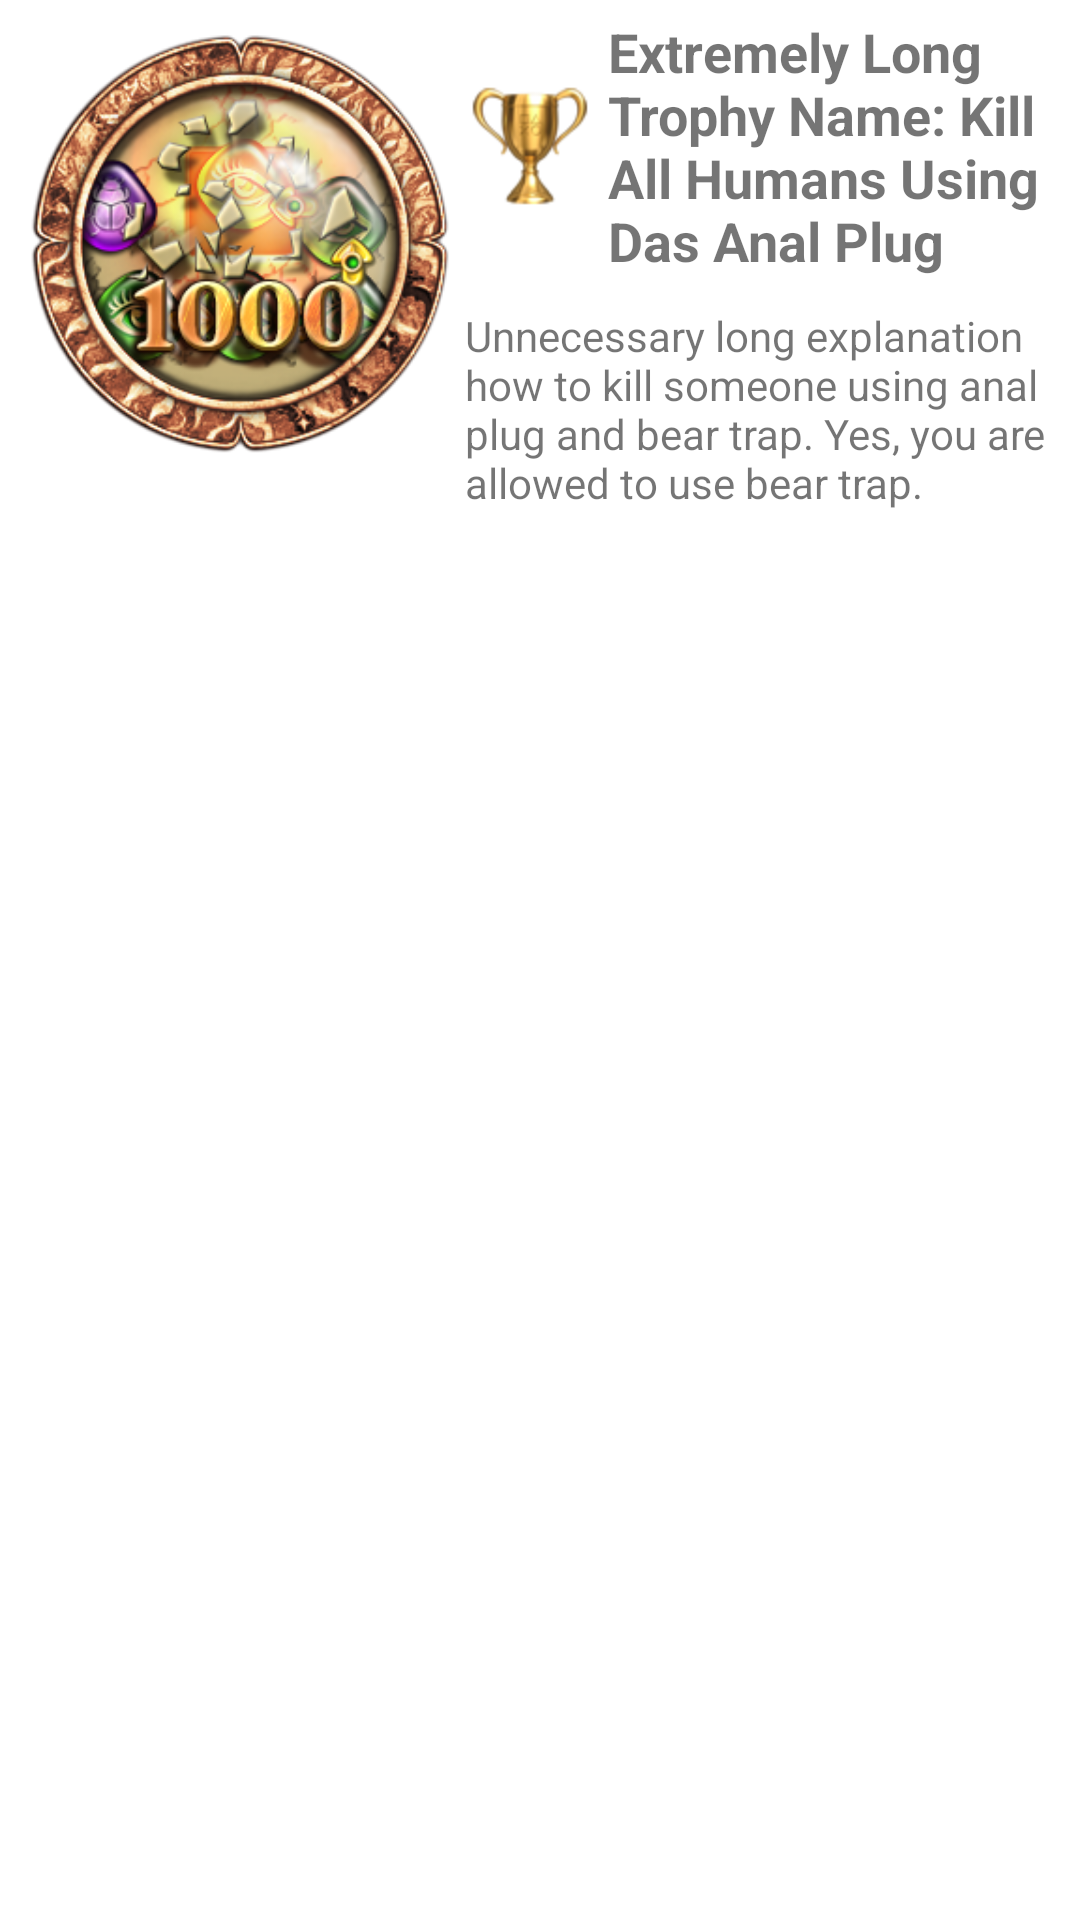

Icons on this 1080*1920 Android screen, each with the point to tap as point (x, y):
trophy gold: point (530, 146)
